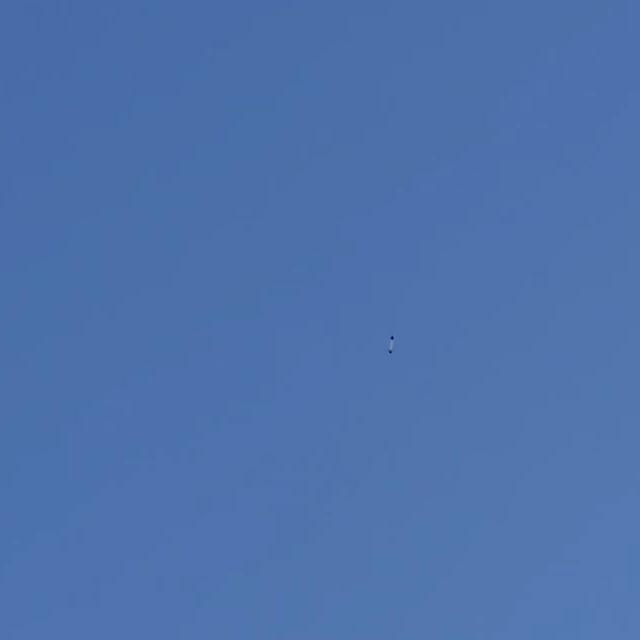rocket: (388, 336, 395, 356)
